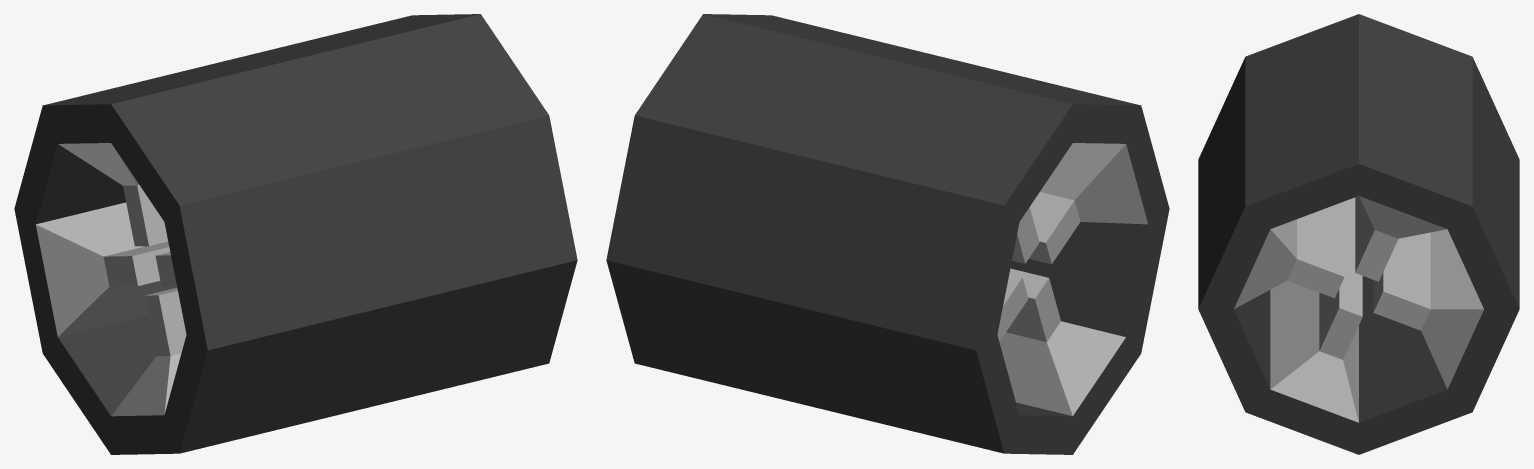
File: mars_rover_wheel.glb
The picture shows the model from 3 angles, left to right: view 1: azimuth 30°, elevation 25°; view 2: azimuth 150°, elevation 25°; view 3: azimuth 270°, elevation 25°; orthographic projection. The views are drawn at different scales.
Parts seen in each view (by area): view 1: rover.002; view 2: rover.002; view 3: rover.002.
Boxes of the visible parts, bbox=[...] form: rover.002: bbox=[14, 14, 577, 454]; rover.002: bbox=[606, 14, 1169, 454]; rover.002: bbox=[1198, 14, 1519, 454].
Size of the model in its own units: 0.6282 by 0.5695 by 0.5695.
1 material, 1 textured.
